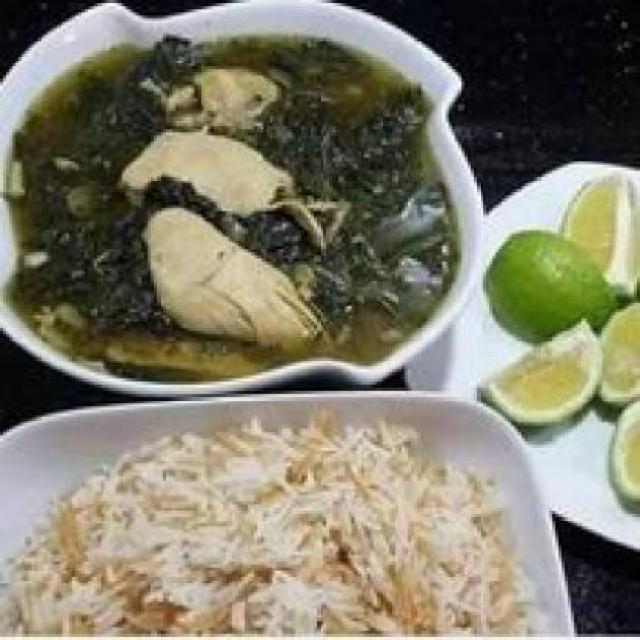fried rice: (6, 409, 531, 634)
molokhia: (6, 31, 462, 372)
